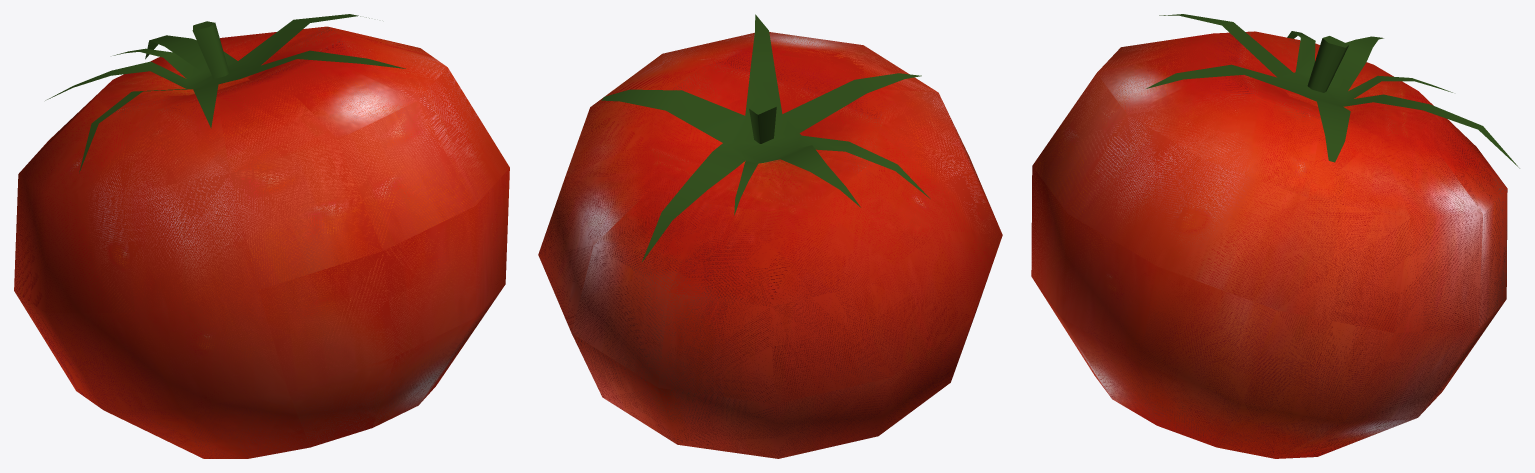
File: tomato.dae
3 renders of one model, left to right at view 1: azimuth 30°, elevation 25°; view 2: azimuth 150°, elevation 25°; view 3: azimuth 270°, elevation 25°, orthographic. The views are drawn at different scales.
Visible parts, largest first — view 1: Component_42, group_1 (×2); view 2: Component_42, group_1 (×2); view 3: Component_42, group_1 (×2).
Part boxes in pixels (x1,y1,x2,y2): Component_42: (14, 26, 509, 458); group_1 (×2): (45, 14, 405, 173); Component_42: (538, 32, 1002, 458); group_1 (×2): (601, 14, 930, 261); Component_42: (1031, 31, 1507, 458); group_1 (×2): (1146, 14, 1519, 168).
Bounding box in the file's own units: 4.76 × 4.73 × 4.1.
4 materials, 3 textured.
